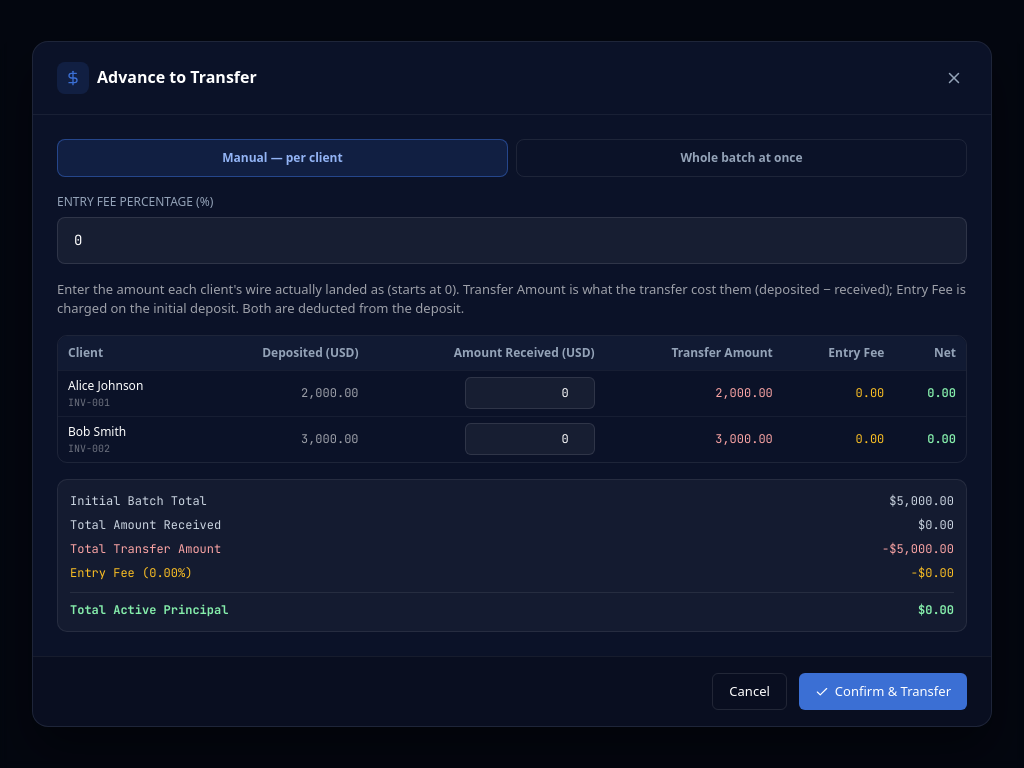
Scenario: TransferCostModal — per-client Transfer Amount and Entry Fee columns › shows each client's transfer amount (deposited − received) and entry fee (on the deposit)
Check: the column heading "Transfer Amount" is shown, box left=605, top=336, right=783, bottom=370
Check: the column heading "Entry Fee" is shown, box left=783, top=336, right=894, bottom=370
Replace the text in the 1st number field with "10" at coordinates (512, 240), box left=57, top=217, right=967, bottom=264
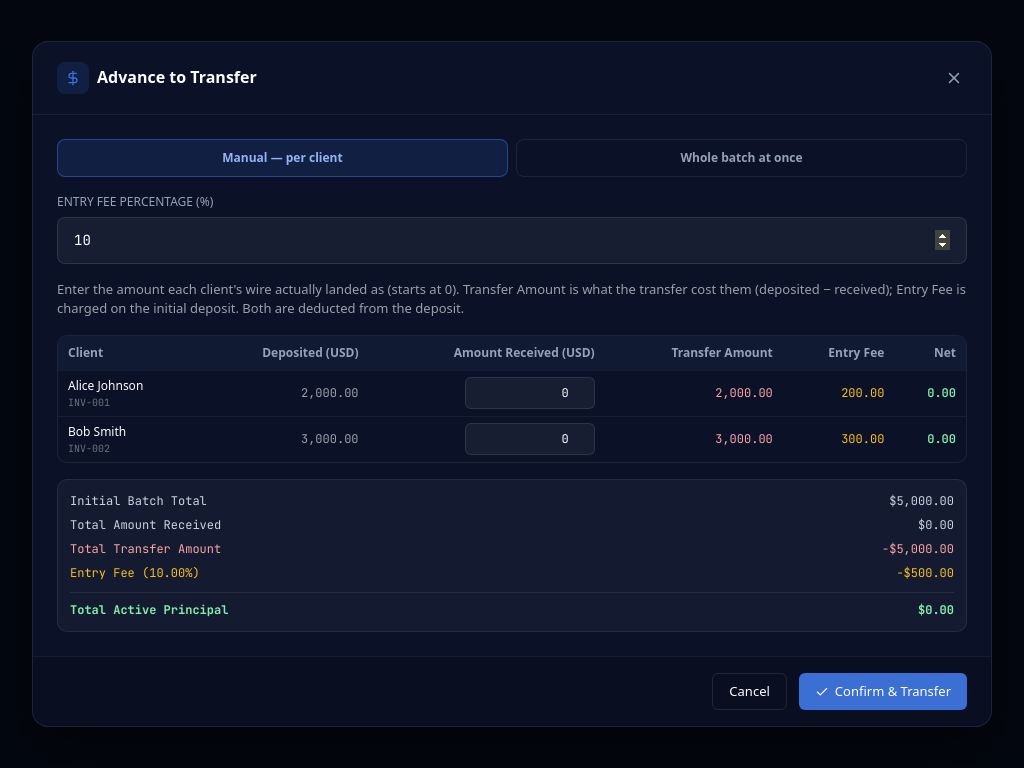
Replace the text in the number field named "Amount received for Alice Johnson" with "1900" at coordinates (530, 393), box left=465, top=377, right=595, bottom=409
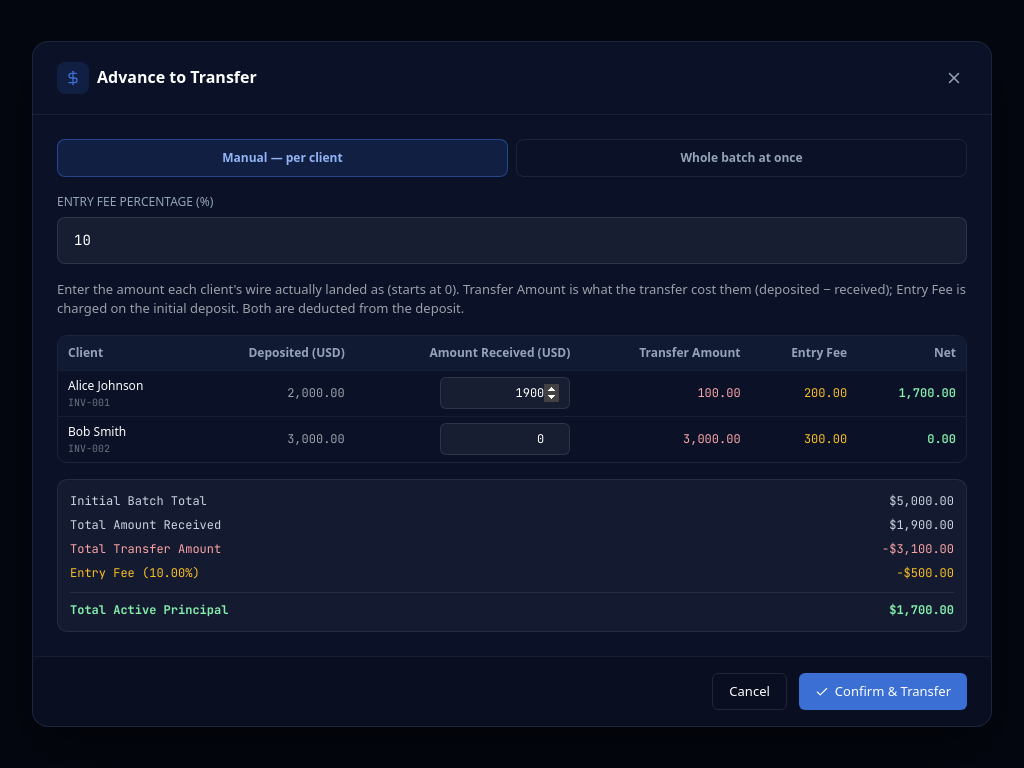
Check: the row named "Amount received for Alice Johnson" shows "200.00", box left=804, top=385, right=847, bottom=401
Check: the row named "Amount received for Alice Johnson" shows "100.00", box left=697, top=385, right=741, bottom=401
Check: the row named "Amount received for Alice Johnson" shows "1,700.00", box left=898, top=385, right=956, bottom=401
